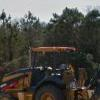Tractor: (8, 42, 100, 100)
